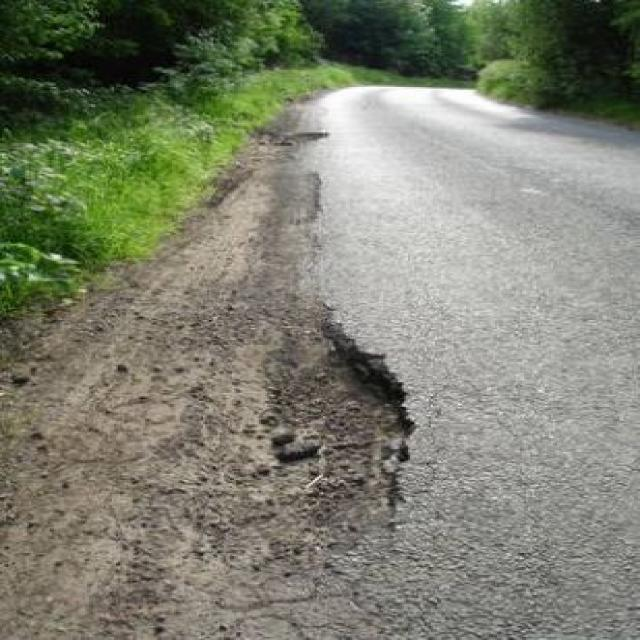Pothole: (167, 302, 424, 587)
